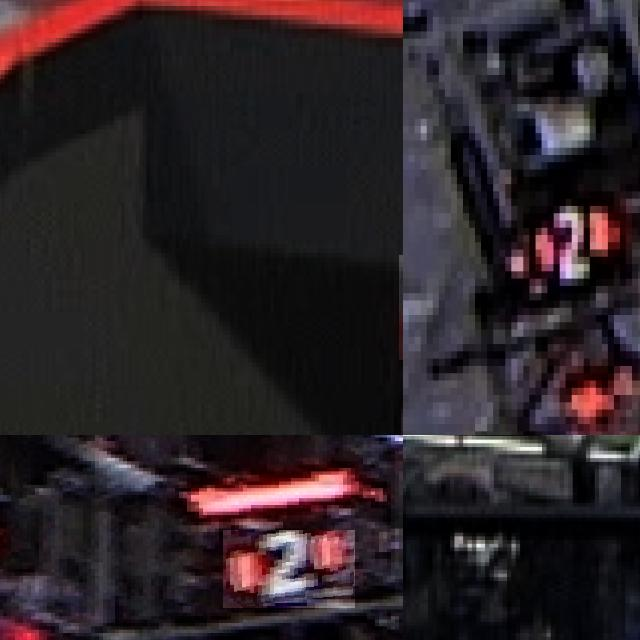R2: (223, 530, 355, 608), (523, 191, 614, 286)
